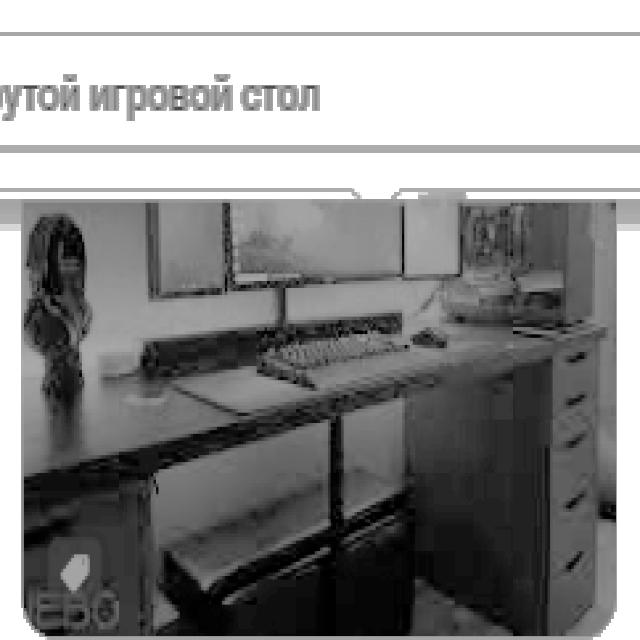table: (21, 316, 606, 633)
